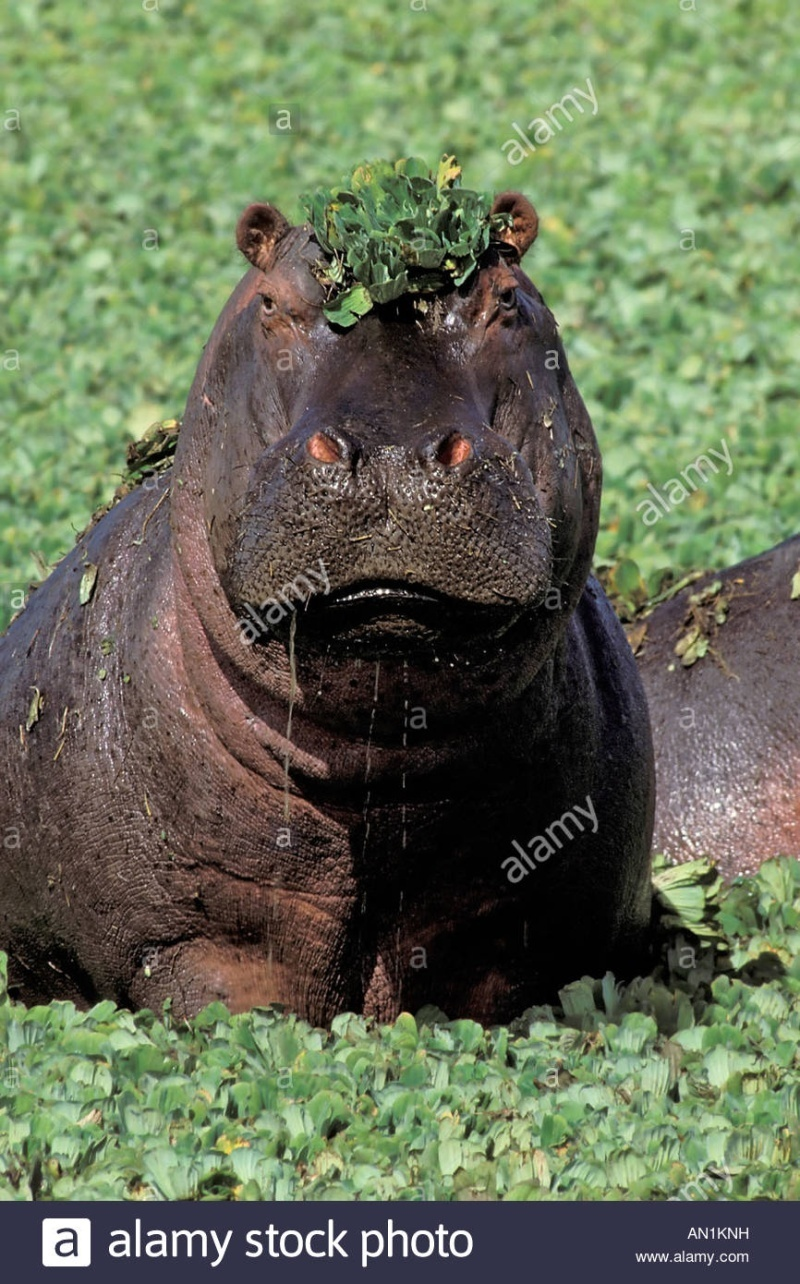hipopotamo: (21, 170, 709, 1038)
